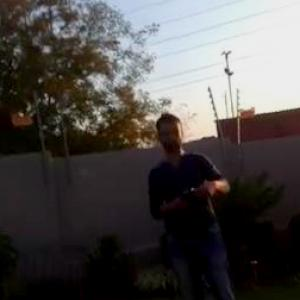follow: (143, 102, 242, 299)
